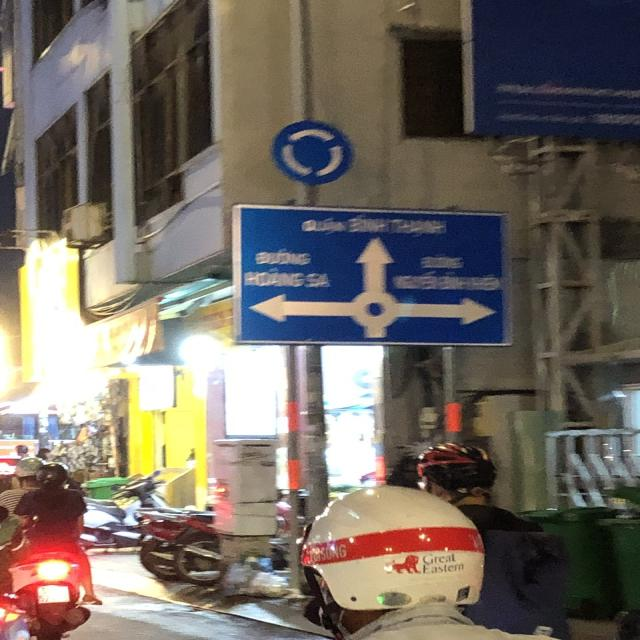Bien bao noi giao nhau chay theo vong xuyen: (264, 117, 360, 190)
